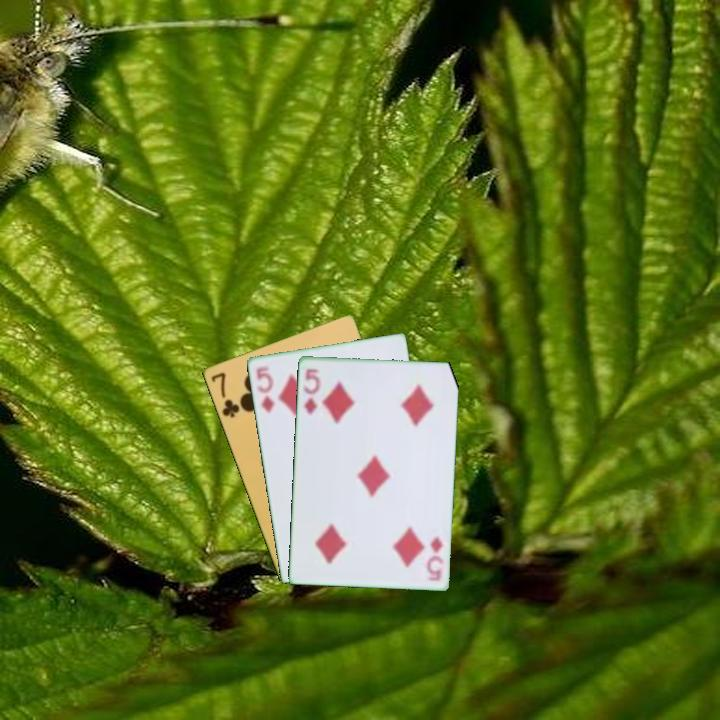5d: (253, 361, 277, 416), (300, 365, 322, 418), (423, 533, 446, 583)
7c: (207, 369, 242, 421)
